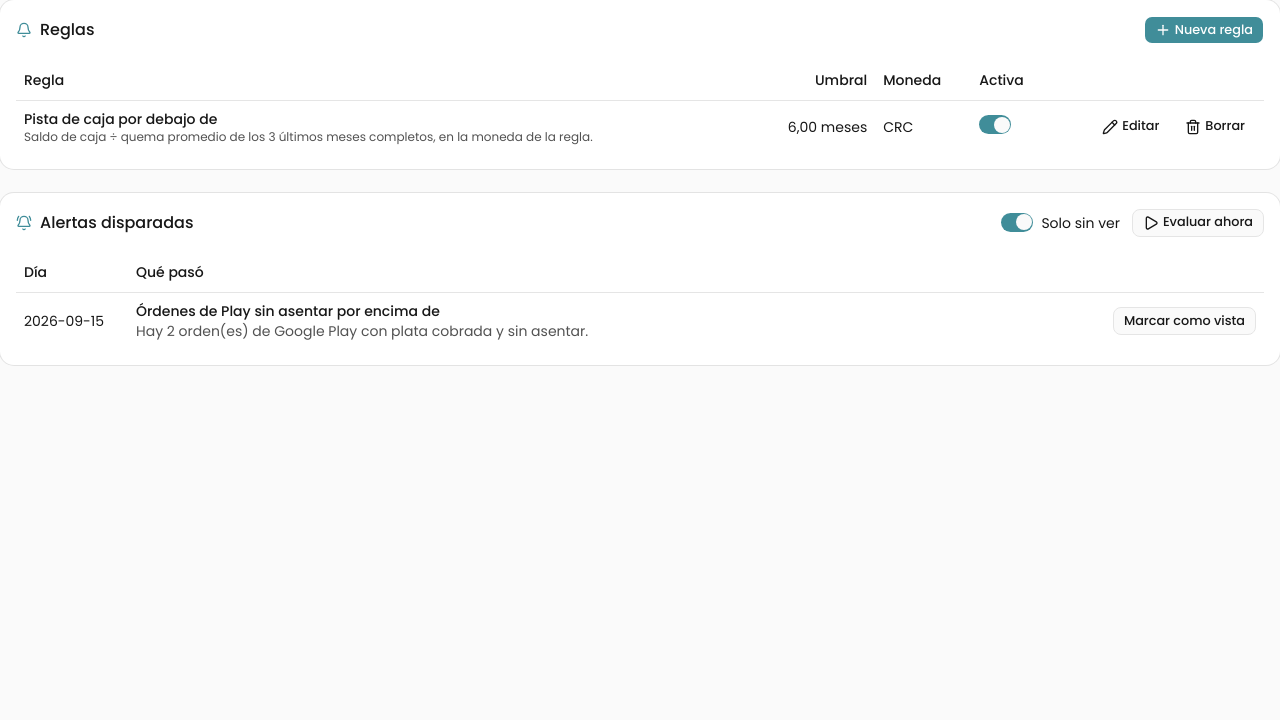
Test: FinanceAlerts — editar una regla › cambia el umbral y la moneda sin tocar el tipo, que es inmutable
Later steps or results of the test are not shown.
Click the button "Editar" at (1131, 126), box [1091,112,1170,140]
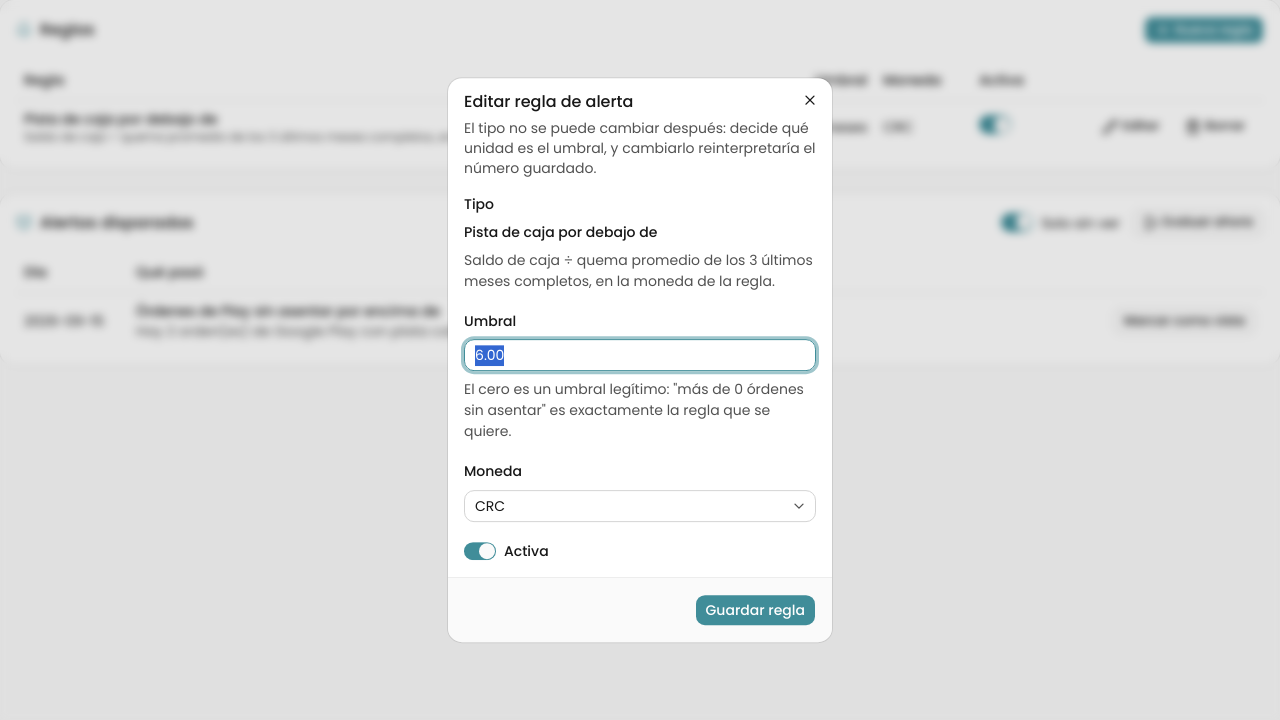
Now the text "Pista de caja por debajo de" is shown, box [464,222,657,242]
